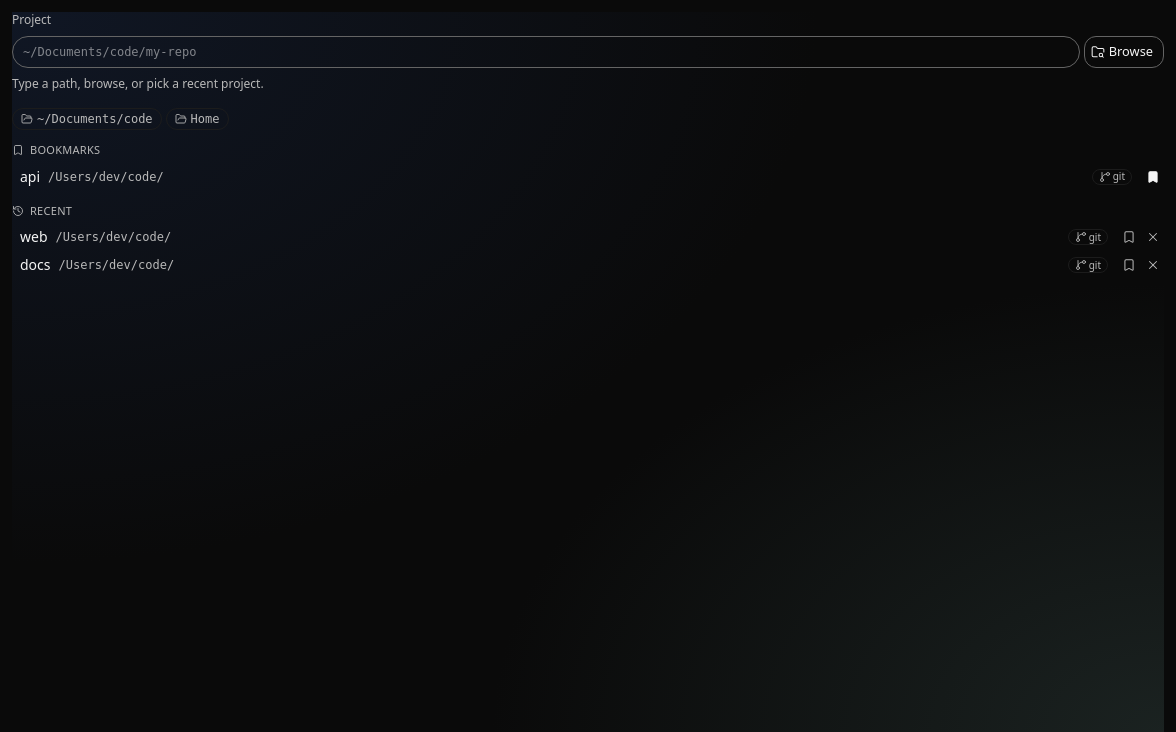
Test: validation › explains why ~/Documents/nope can't be used
Type "~/Documents/nope" into the dropdown named "Project path" at (546,52), box [12,36,1080,68]
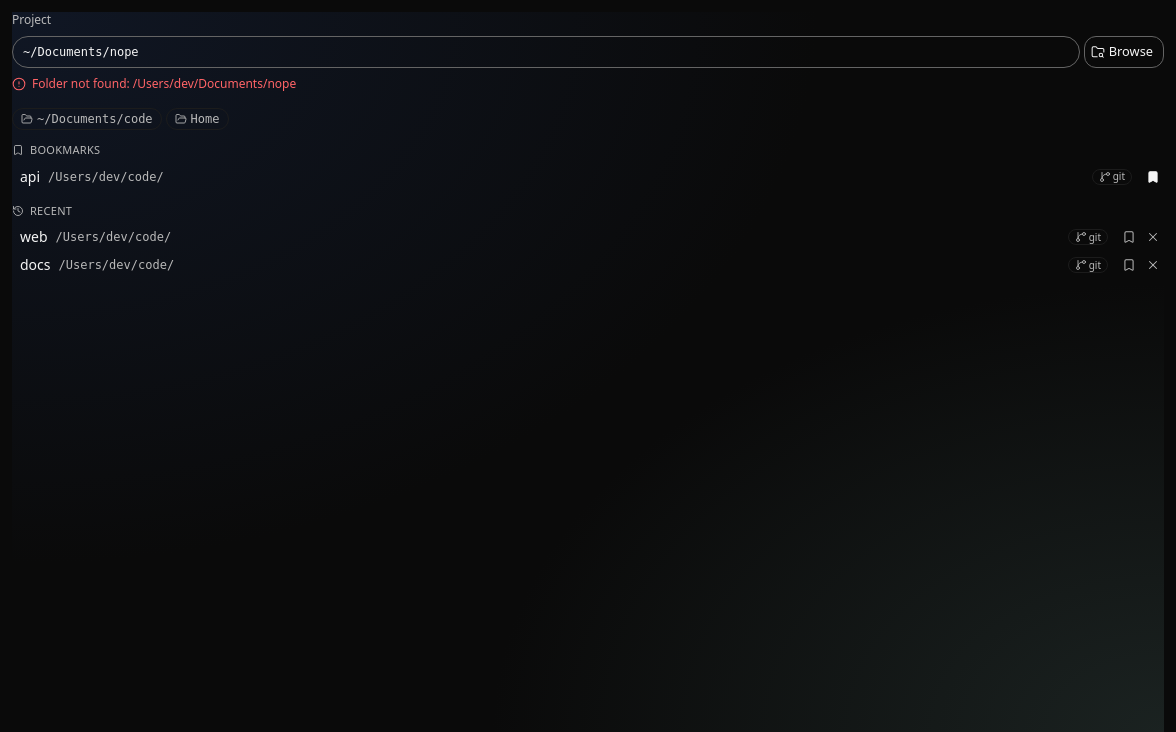
Expected: the message with test id "folder-problem" reads "Folder not found: /Users/dev/Documents/nope", [32,75,296,92]
